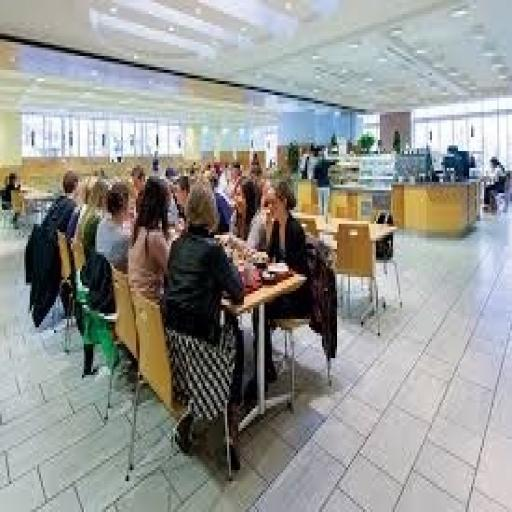eating: (32, 154, 320, 459)
